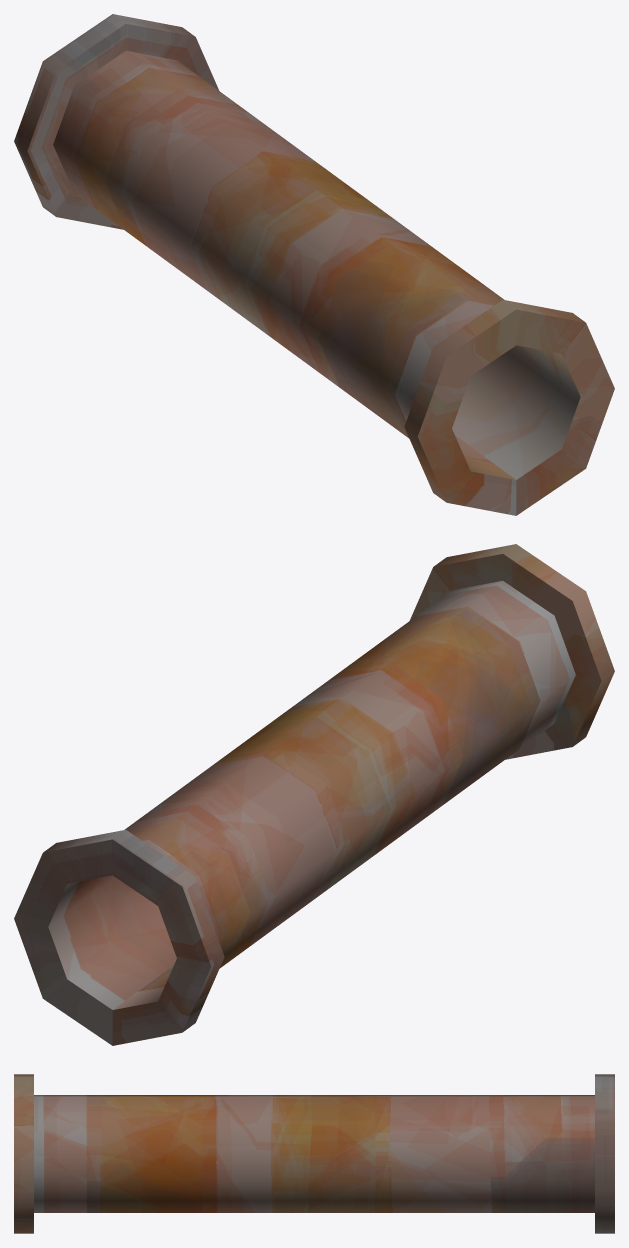
File: Pipe_Straight.fbx
3 views of the same model, one above another, from view 1: azimuth 30°, elevation 25°; view 2: azimuth 150°, elevation 25°; view 3: azimuth 270°, elevation 25° (orthographic). The views are drawn at different scales.
Parts seen in each view (by area): view 1: Pipe_Straight; view 2: Pipe_Straight; view 3: Pipe_Straight.
Boxes of the visible parts, box(x1,y1,x2,y2) form: Pipe_Straight: box(14, 14, 614, 515); Pipe_Straight: box(14, 544, 614, 1045); Pipe_Straight: box(14, 1074, 614, 1233).
Size of the model in its own units: 112 by 112 by 396.
